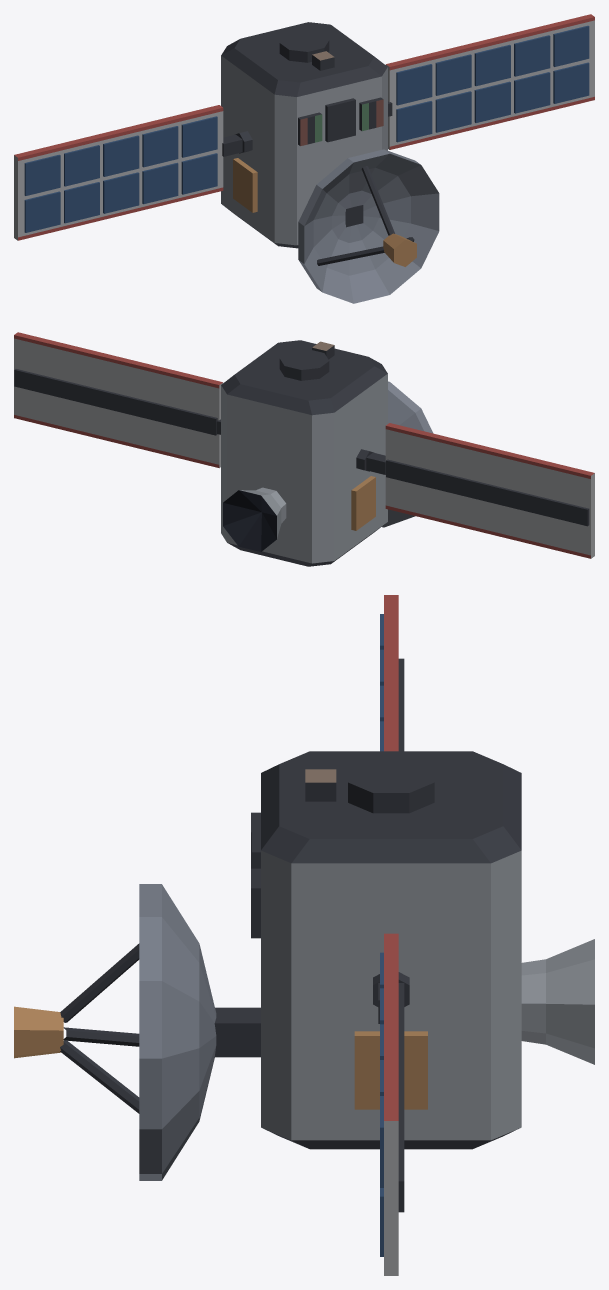
The model's file is comm-satellite-fdc2cd.glb.
3 renders of one model, top to bottom at view 1: azimuth 30°, elevation 25°; view 2: azimuth 150°, elevation 25°; view 3: azimuth 270°, elevation 25°, orthographic. The views are drawn at different scales.
Visible parts, largest first — view 1: bus-body, wing-l-panel, wing-r-panel, dish-bowl; view 2: bus-body, wing-l-panel, wing-r-panel, dish-bowl; view 3: bus-body, dish-bowl, wing-r-panel, wing-l-panel, dish-boom-arm.
Boxes of the visible parts, x1,y1,x2,y2 form: bus-body: (221, 22, 387, 248); wing-l-panel: (14, 105, 242, 240); wing-r-panel: (385, 14, 594, 149); dish-bowl: (298, 149, 439, 303); bus-body: (221, 340, 387, 566); wing-l-panel: (366, 423, 594, 558); wing-r-panel: (14, 332, 223, 468); dish-bowl: (382, 381, 433, 527); bus-body: (251, 751, 594, 1149); dish-bowl: (14, 884, 216, 1180); wing-r-panel: (378, 933, 404, 1275); wing-l-panel: (380, 595, 404, 751); dish-boom-arm: (214, 1007, 260, 1057).
Bounding box in the file's own units: 3.05 × 1.05 × 1.43.
